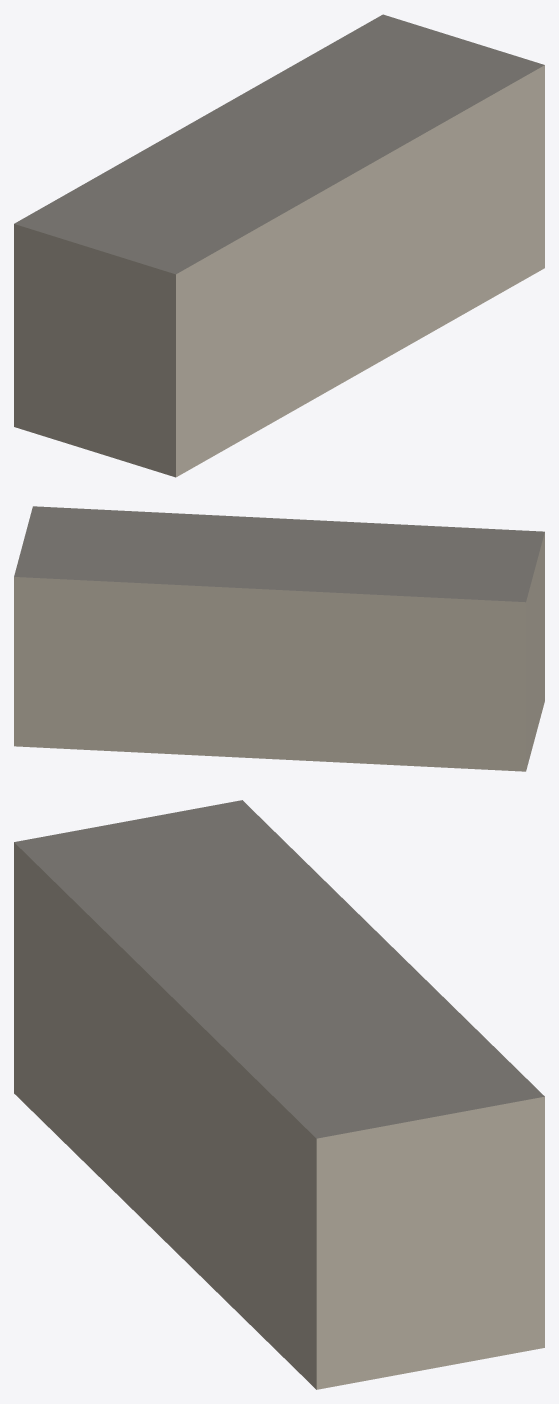
3 views of the same model, one above another, from view 1: azimuth 30°, elevation 25°; view 2: azimuth 150°, elevation 25°; view 3: azimuth 270°, elevation 25° (orthographic). The views are drawn at different scales.
Parts seen in each view (by area): view 1: HP-w1286965189; view 2: HP-w1286965189; view 3: HP-w1286965189.
Part boxes in pixels (x1,y1,x2,y2): HP-w1286965189: (14,14,544,477); HP-w1286965189: (14,506,544,771); HP-w1286965189: (14,800,544,1389).
Bounding box in the file's own units: 52.03 × 18 × 34.48.
